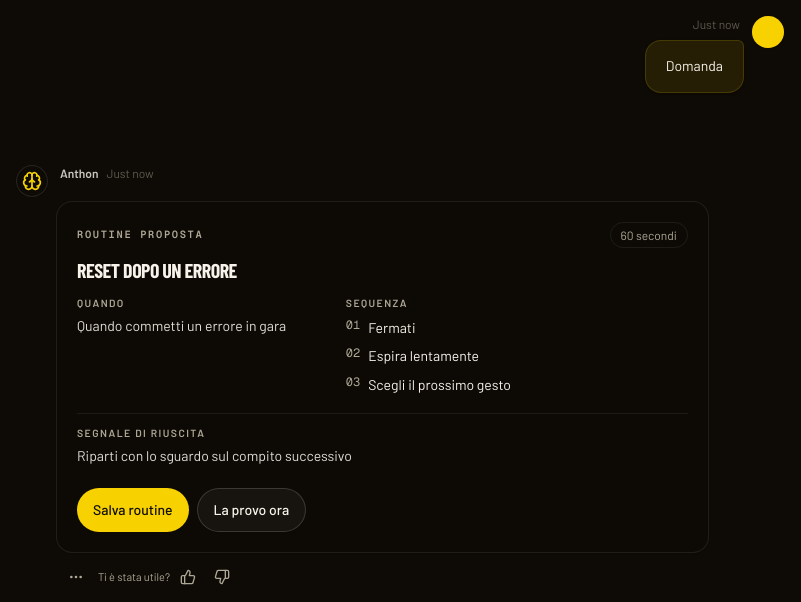
it: MessageList rendered interactions › saves the exact proposal source and opens the inline runner
The image size is (801, 602).
Click the button "La provo ora" at (251, 510), box [196, 488, 306, 532]
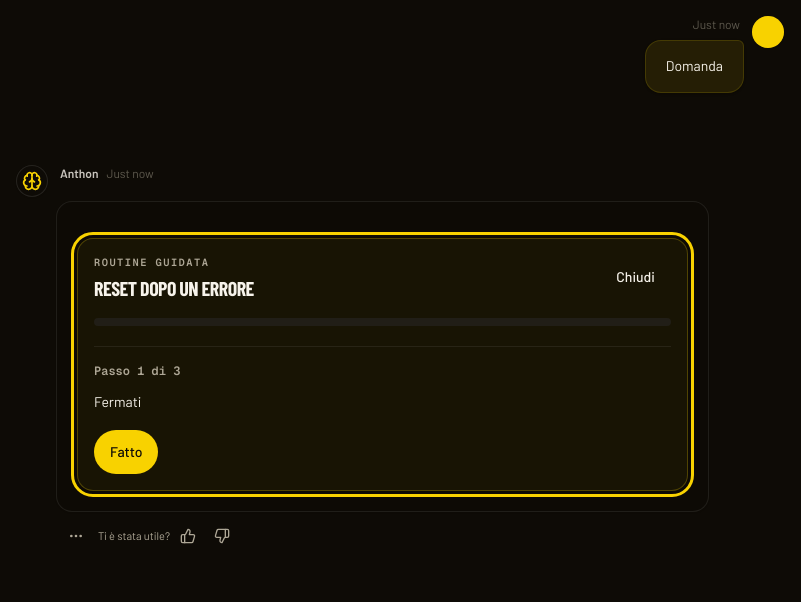
Expected: the button "Chiudi" is shown, [600, 255, 671, 299]
